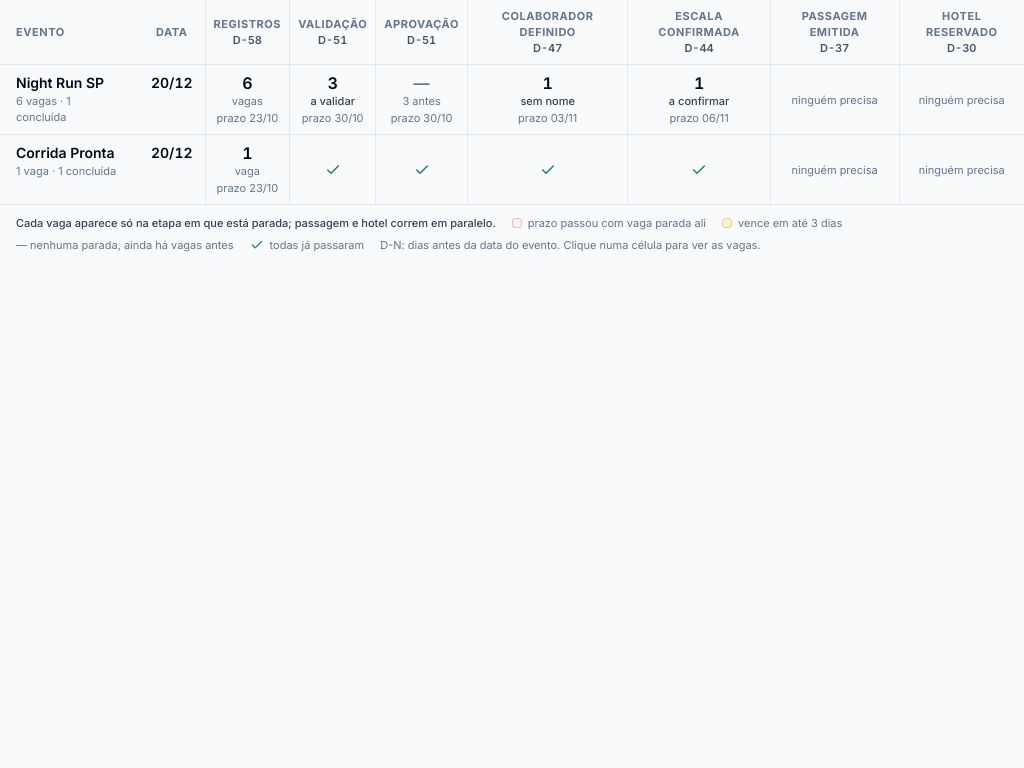
Scenario: Quadro de prazos — detalhe da célula › Escalação mostra quem ainda está antes, recolhido, e a ação abre as vagas do evento
The width and height of the screenshot is (1024, 768).
Click the button "1 sem nome prazo 03/11". click: click(548, 100)
box: [468,65,628,134]
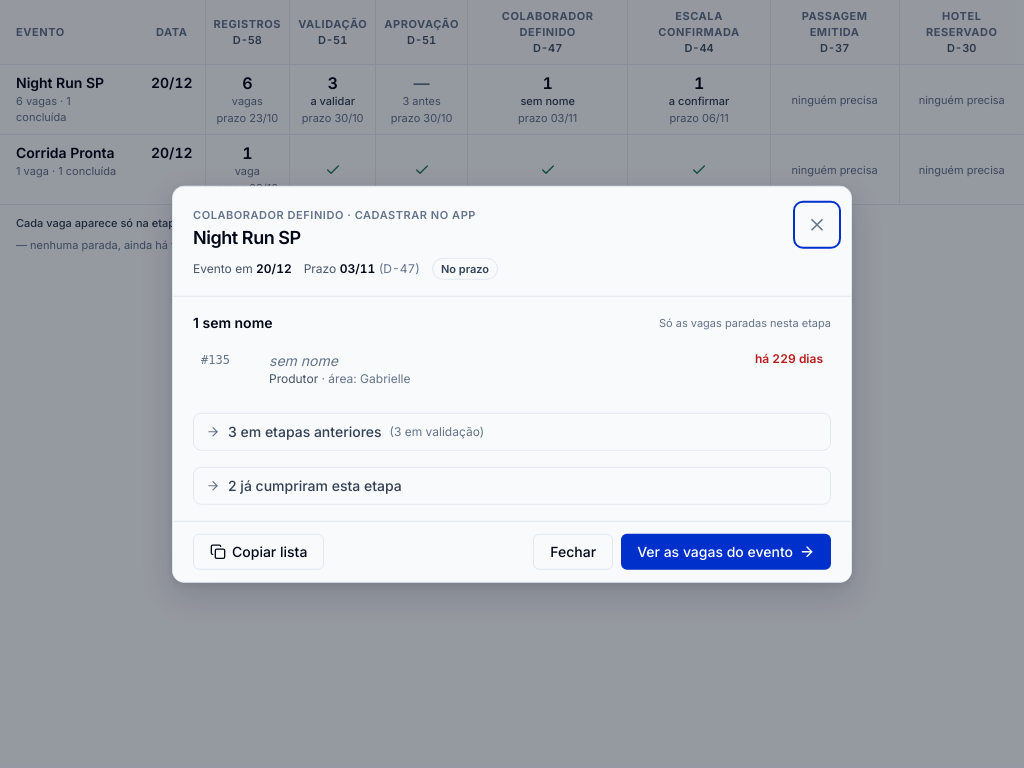
Result: the element with test id "detalhe-antes" reads "3 em etapas anteriores (3 em validação)" at [193,412,831,450]
Result: the element with test id "detalhe-cumpridas" reads "2 já cumpriram esta etapa" at [228,476,402,493]
Click the button with test id "detalhe-acao". click: click(726, 551)
box: [621,533,831,569]
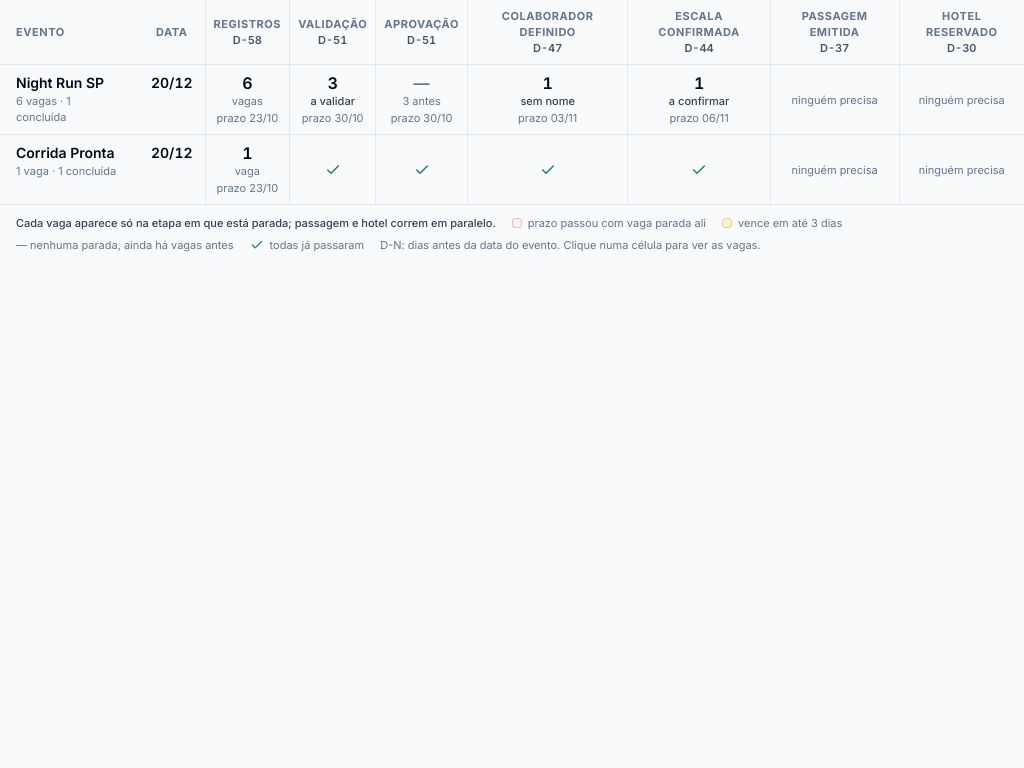
Result: the dialog is gone
